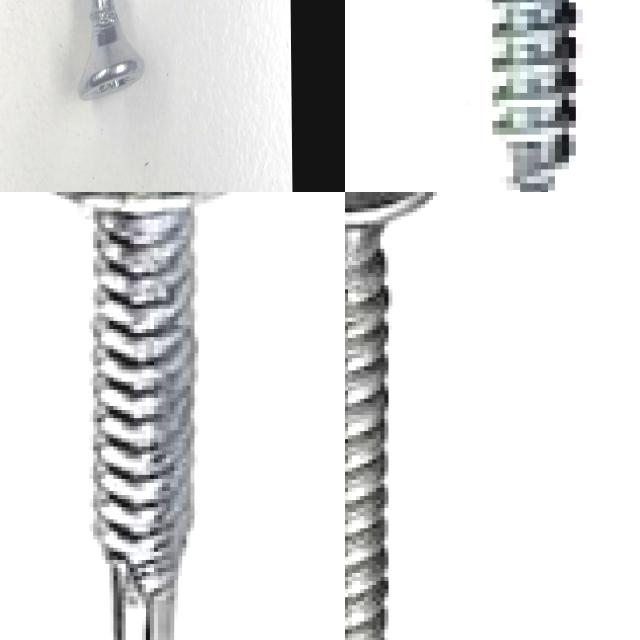Screw: (50, 192, 208, 640), (345, 192, 441, 640), (492, 0, 579, 192), (78, 0, 145, 99)
